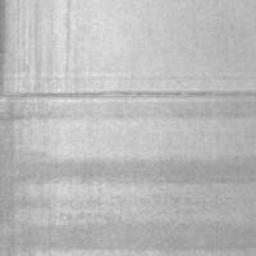Welding line: (0, 90, 256, 100)
